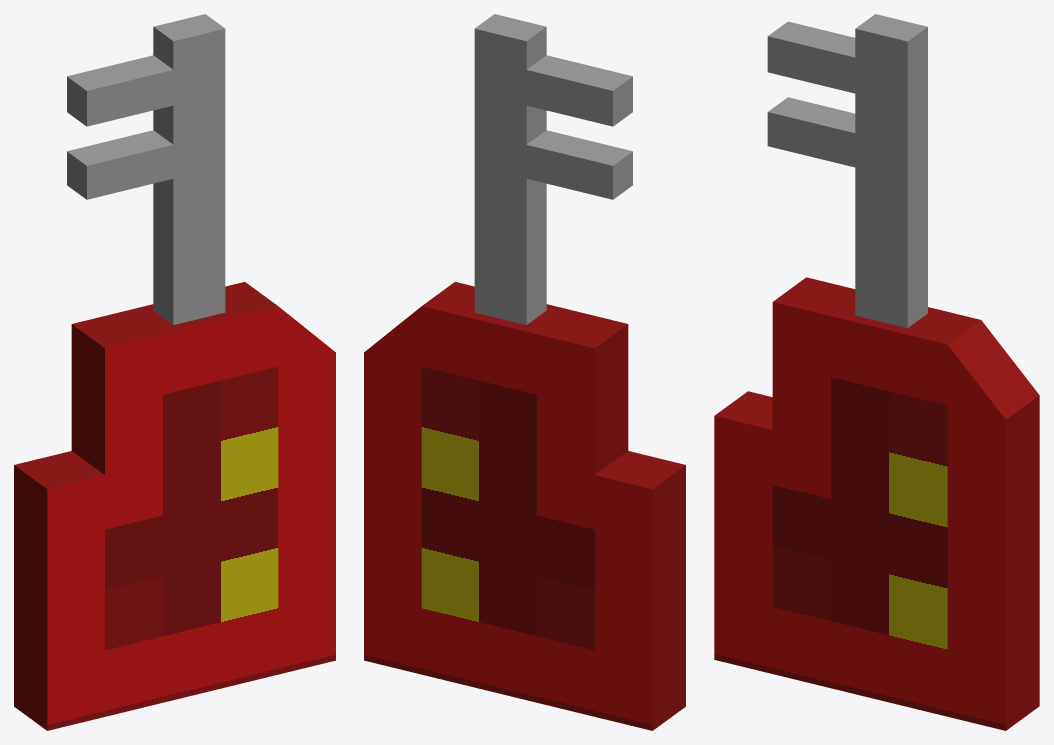
The model's file is key-card.fbx.
3 renders of one model, left to right at view 1: azimuth 30°, elevation 25°; view 2: azimuth 150°, elevation 25°; view 3: azimuth 330°, elevation 25°, orthographic.
Visible parts, largest first — view 1: cuboid, cuboid_1; view 2: cuboid, cuboid_1; view 3: cuboid, cuboid_1.
Boxes of the visible parts, x1,y1,x2,y2 form: cuboid: (14,282,335,730); cuboid_1: (67,14,225,324); cuboid: (364,282,685,730); cuboid_1: (474,14,632,324); cuboid: (714,277,1039,730); cuboid_1: (767,14,927,328).
Size of the model in its own units: 31.25 by 67.5 by 6.25.
Materials: 1 (1 with a texture image).
